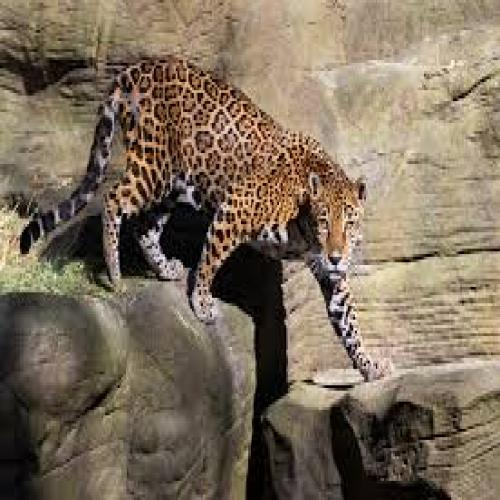jaguar_not-endangered: (88, 57, 392, 380)
